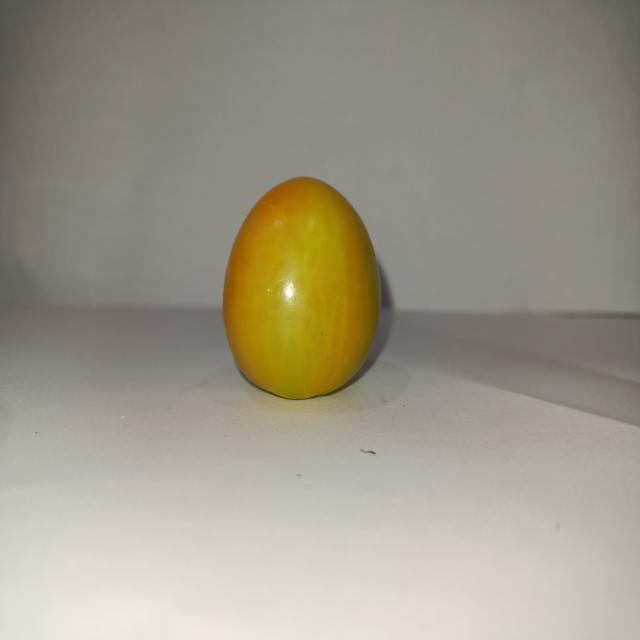Red: (221, 174, 382, 400)
